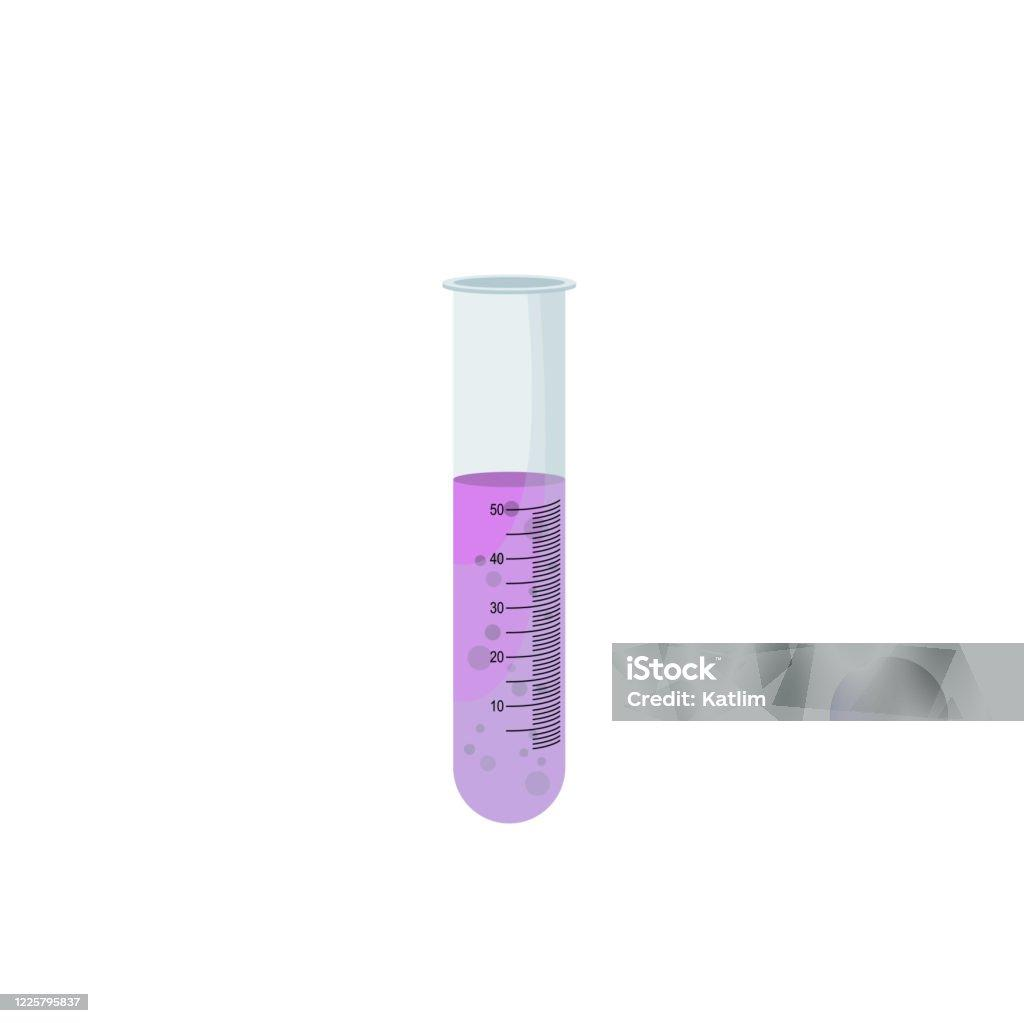Test tube: (435, 257, 569, 833)
